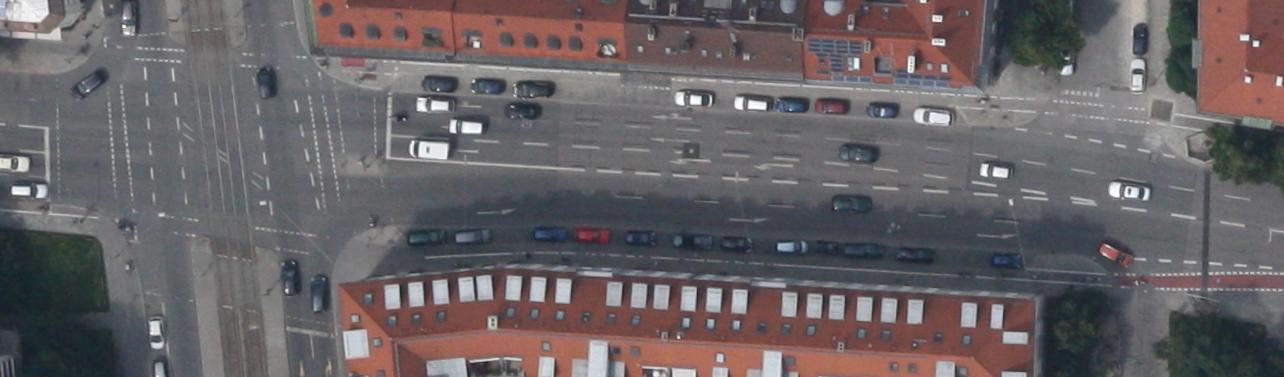car: (69, 71, 103, 101), (1106, 180, 1152, 202), (1098, 241, 1134, 269), (838, 143, 878, 164), (913, 106, 954, 126), (831, 194, 872, 213), (280, 259, 301, 296), (514, 80, 554, 98), (896, 246, 936, 264), (416, 96, 455, 114), (672, 233, 713, 250), (505, 102, 542, 120), (255, 65, 275, 98), (406, 230, 447, 246), (844, 243, 884, 259), (421, 75, 458, 92), (732, 95, 770, 111), (11, 184, 48, 200), (310, 276, 326, 313), (674, 91, 713, 106), (979, 163, 1013, 180), (774, 238, 808, 255), (866, 100, 898, 118), (455, 228, 491, 244), (574, 228, 610, 244), (720, 236, 752, 254), (471, 78, 504, 95), (120, 1, 136, 36), (148, 316, 164, 350), (1130, 58, 1146, 92), (532, 226, 566, 242), (449, 119, 485, 134), (992, 252, 1022, 270), (816, 98, 849, 114), (1058, 42, 1074, 75), (624, 230, 656, 246), (777, 97, 809, 112), (1132, 24, 1148, 54), (814, 241, 838, 256)
